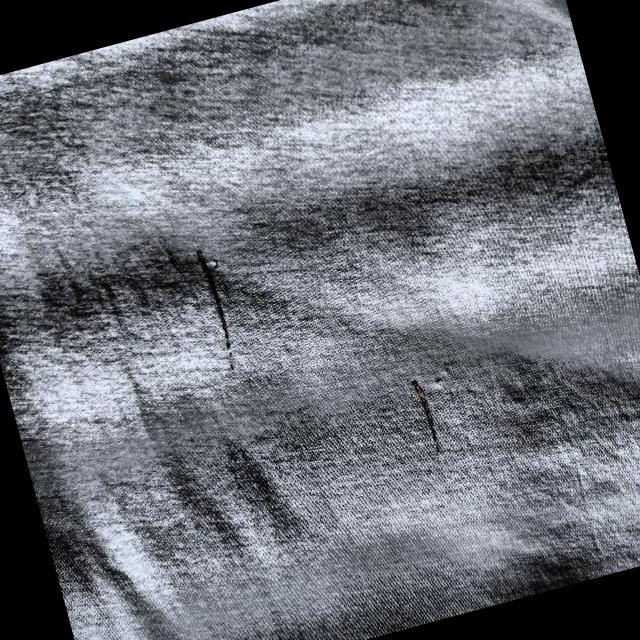cut: (427, 370, 451, 400), (204, 252, 224, 274)
